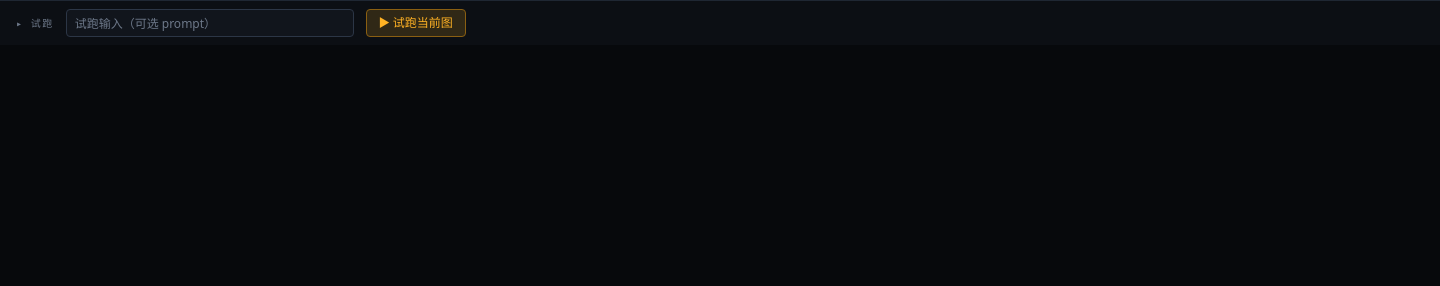
Scenario: TrialRunPanel › hydrates output, events, and steps for a synchronously completed trial
Click the button "▶ 试跑当前图". click: [416, 23]
box: [366,9,466,37]
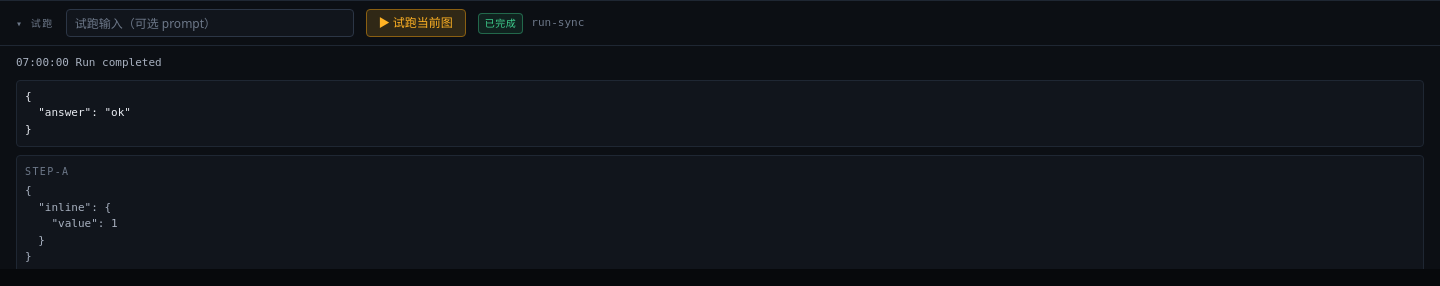
Expected: the text "07:00:00 Run completed" is shown, [16,56,162,69]
Expected: the text "{ \"answer\": \"ok\" }" is shown, [16,80,1424,147]
Expected: the text "step-a" is shown, [25,166,70,177]
